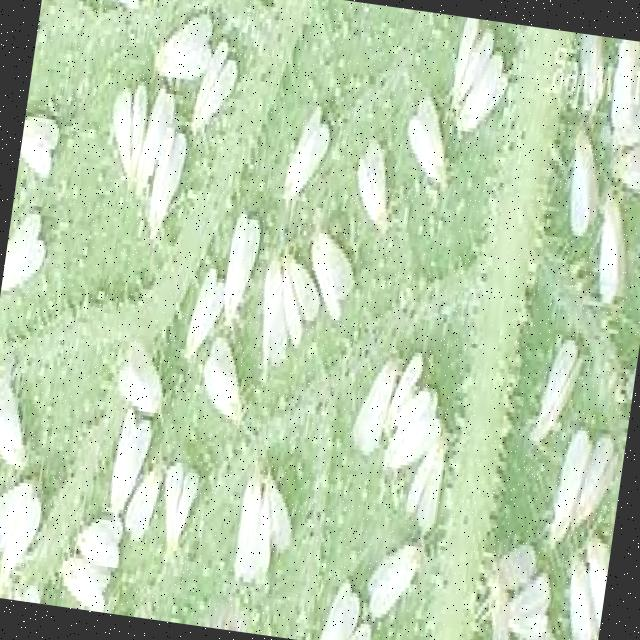whitefly: (0, 0, 513, 640), (476, 31, 640, 640)
